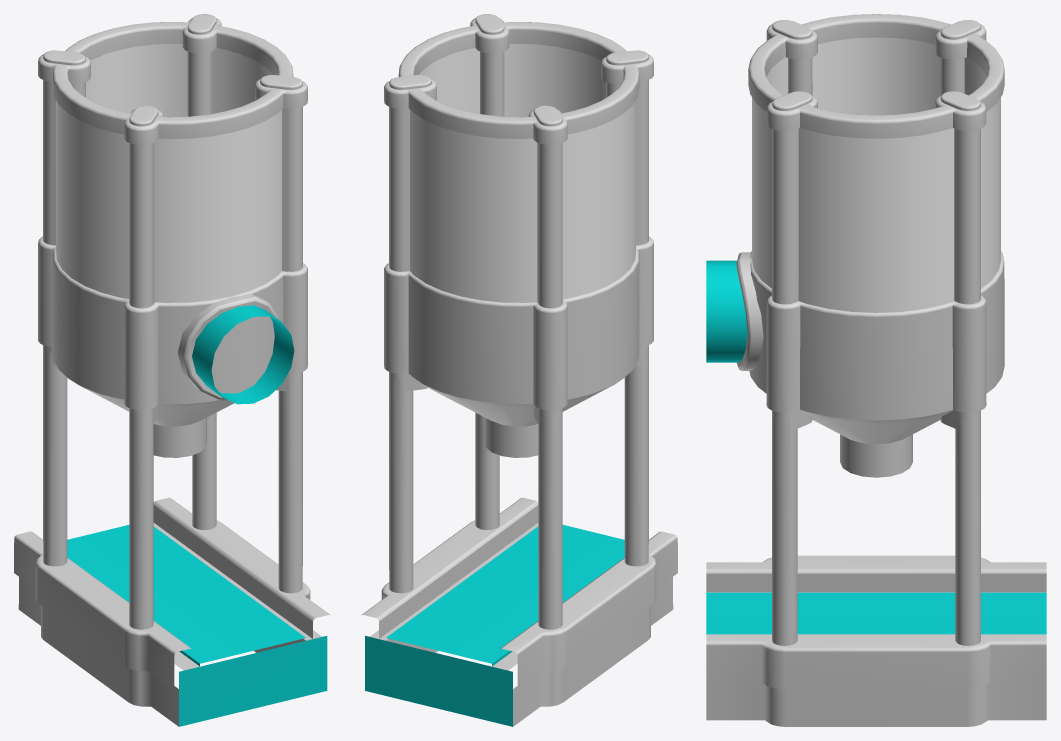
Rendered from FluidPackerDefaultInternalVariant.gltf.
The picture shows the model from 3 angles, left to right: view 1: azimuth 30°, elevation 25°; view 2: azimuth 150°, elevation 25°; view 3: azimuth 270°, elevation 25°; orthographic projection. The views are drawn at different scales.
Visible parts, largest first — view 1: FluidPacker, FluidPackerGlas; view 2: FluidPacker, FluidPackerGlas; view 3: FluidPacker, FluidPackerGlas.
Boxes of the visible parts, x1,y1,x2,y2 form: FluidPacker: (14, 14, 330, 726); FluidPackerGlas: (56, 43, 281, 302); FluidPacker: (361, 14, 677, 726); FluidPackerGlas: (410, 43, 635, 302); FluidPacker: (706, 14, 1046, 726); FluidPackerGlas: (752, 37, 1000, 312).
Size of the model in its own units: 0.7535 by 2.01 by 1.
